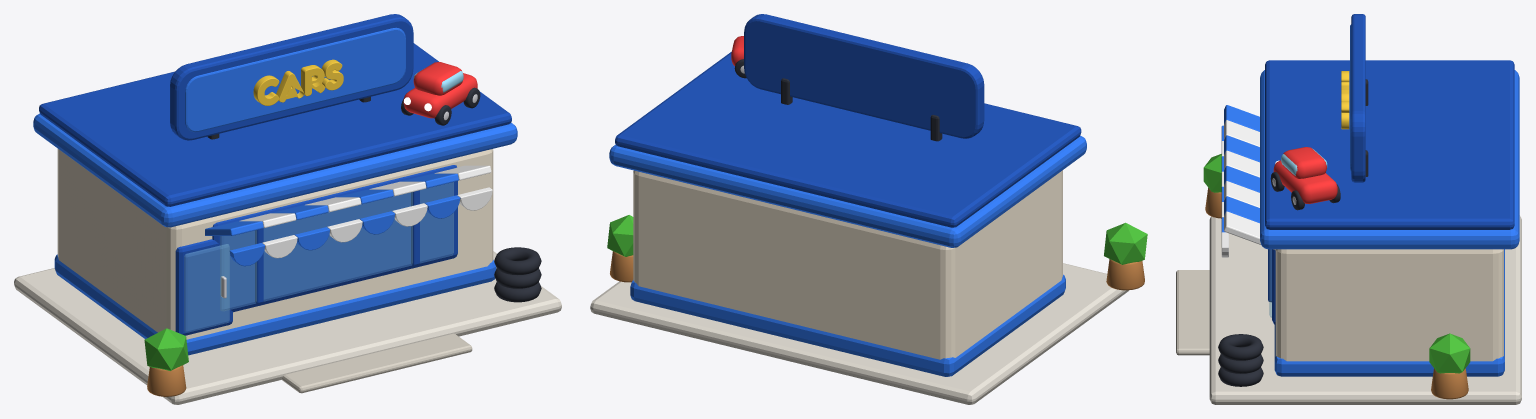
Rendered from shop_cars.fbx.
3 renders of one model, left to right at view 1: azimuth 30°, elevation 25°; view 2: azimuth 150°, elevation 25°; view 3: azimuth 270°, elevation 25°, orthographic. The views are drawn at different scales.
Visible parts, largest first — view 1: Cube.005, Cube.002, Cube, Cube.006, Cube.007, prism.009, Cube.004, Cube.003, prism.008, Cube.010, Cube.001, Cube.011 (+26 smaller); view 2: Cube.002, Cube.005, prism.008, Cube, Cube.004, Cube.003, Icosphere, Cone, Icosphere.001, Cone.001; view 3: Cube.005, Cube.002, Cube, Cube.004, Cube.003, Cube.001, prism.008, Icosphere.001, Cube.026, Torus.002, Cube.027, Cone.001 (+13 smaller).
Boxes of the visible parts, x1,y1,x2,y2 form: Cube.005: [39, 43, 511, 206]; Cube.002: [57, 149, 493, 339]; Cube: [14, 251, 561, 404]; Cube.006: [212, 165, 457, 312]; Cube.007: [220, 182, 453, 310]; prism.009: [185, 27, 405, 132]; Cube.004: [33, 113, 517, 227]; Cube.003: [54, 254, 496, 355]; prism.008: [170, 14, 413, 140]; Cube.010: [175, 239, 232, 335]; Cube.001: [282, 333, 472, 393]; Cube.011: [184, 244, 229, 332]; Cube.002: [633, 170, 1062, 359]; Cube.005: [615, 52, 1081, 227]; prism.008: [744, 14, 984, 138]; Cube: [590, 263, 1128, 404]; Cube.004: [609, 135, 1086, 247]; Cube.003: [630, 274, 1065, 376]; Icosphere: [1104, 222, 1147, 264]; Cone: [1106, 259, 1144, 290]; Icosphere.001: [607, 215, 633, 256]; Cone.001: [610, 251, 633, 282]; Cube.005: [1265, 60, 1514, 229]; Cube.002: [1275, 249, 1503, 361]; Cube: [1209, 215, 1521, 404]; Cube.004: [1260, 70, 1519, 249]; Cube.003: [1274, 249, 1504, 376]; Cube.001: [1176, 270, 1209, 355]; prism.008: [1351, 14, 1365, 182]; Icosphere.001: [1429, 333, 1470, 373]; Cube.026: [1273, 160, 1337, 203]; Torus.002: [1218, 334, 1263, 360]; Cube.027: [1282, 147, 1326, 178]; Cone.001: [1431, 368, 1468, 399].
Size of the model in its own units: 19.59 by 11.6 by 14.4.
